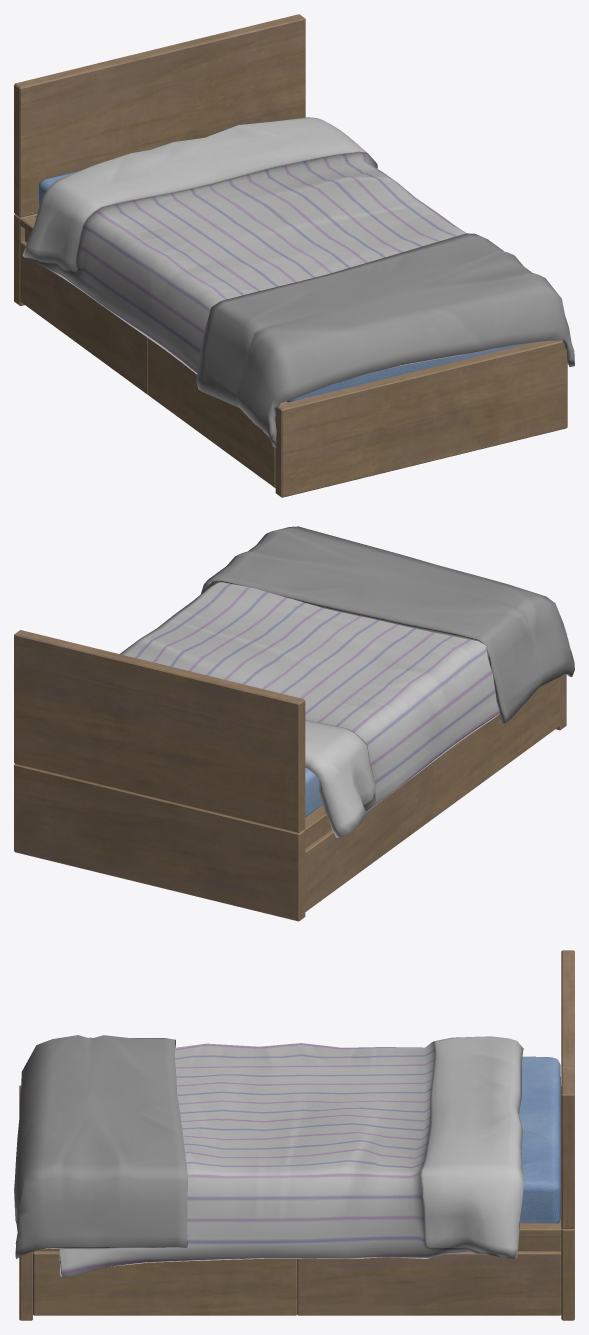
The model's file is bed1.glb.
The picture shows the model from 3 angles, top to bottom: view 1: azimuth 30°, elevation 25°; view 2: azimuth 150°, elevation 25°; view 3: azimuth 270°, elevation 25°; orthographic projection. The views are drawn at different scales.
Visible parts, largest first — view 1: EdithRoomBed_a; view 2: EdithRoomBed_a; view 3: EdithRoomBed_a.
Part boxes in pixels (x1=…): EdithRoomBed_a: x1=14, y1=14, x2=574, y2=497; EdithRoomBed_a: x1=14, y1=526, x2=574, y2=921; EdithRoomBed_a: x1=14, y1=950, x2=574, y2=1320.
Bounding box in the file's own units: 1.42 × 0.8889 × 1.99.
Materials: 4 (4 with a texture image).
